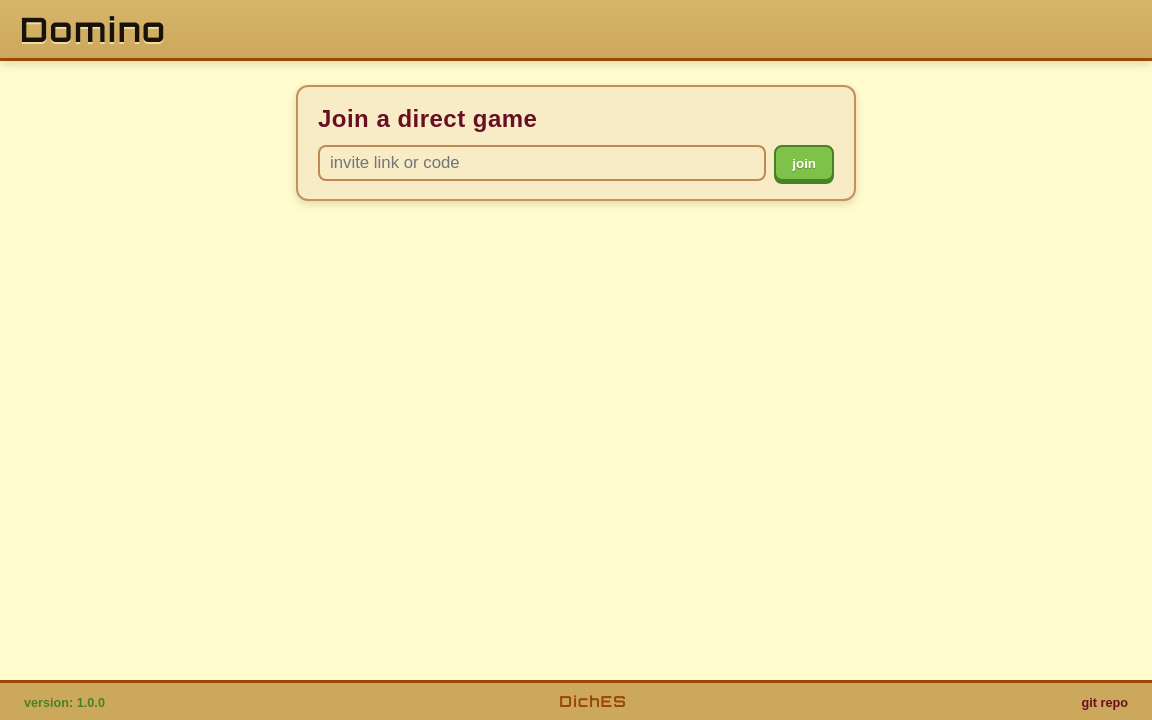
it: direct game join page › asks for an invite when the link has none and validates the input
In the field labelled "invite": (542, 163) [318,145,766,181], type "local-123"
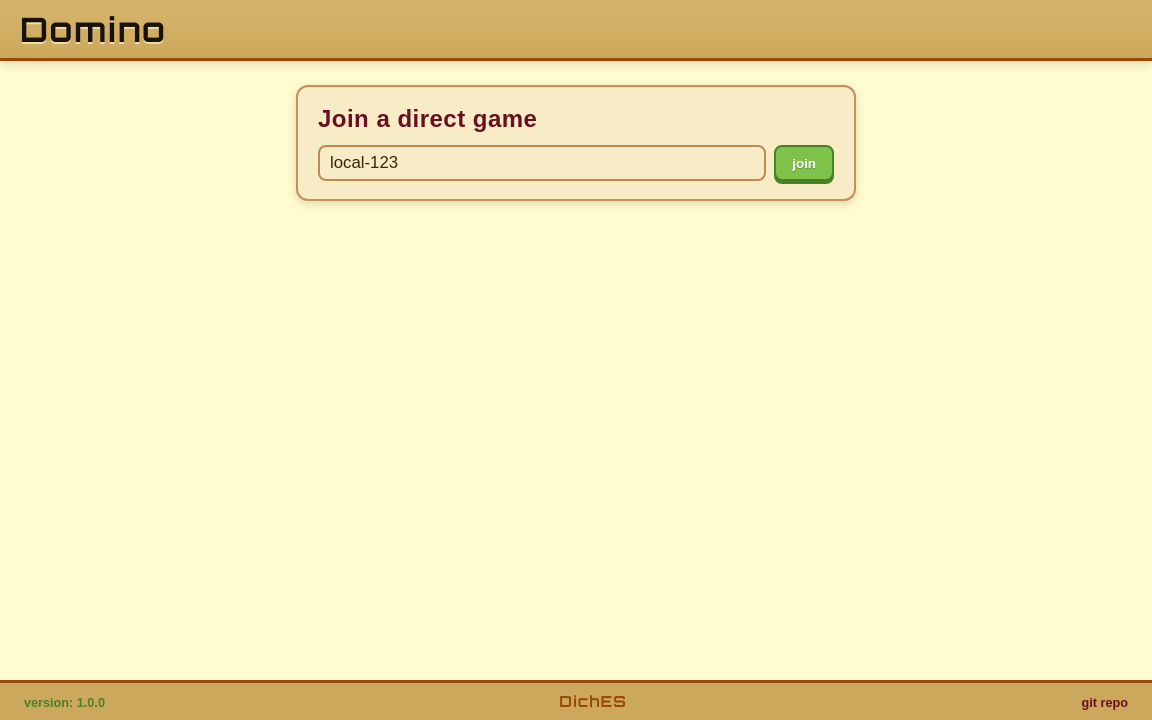
Click the button "join": (804, 163) [774,145,834,181]
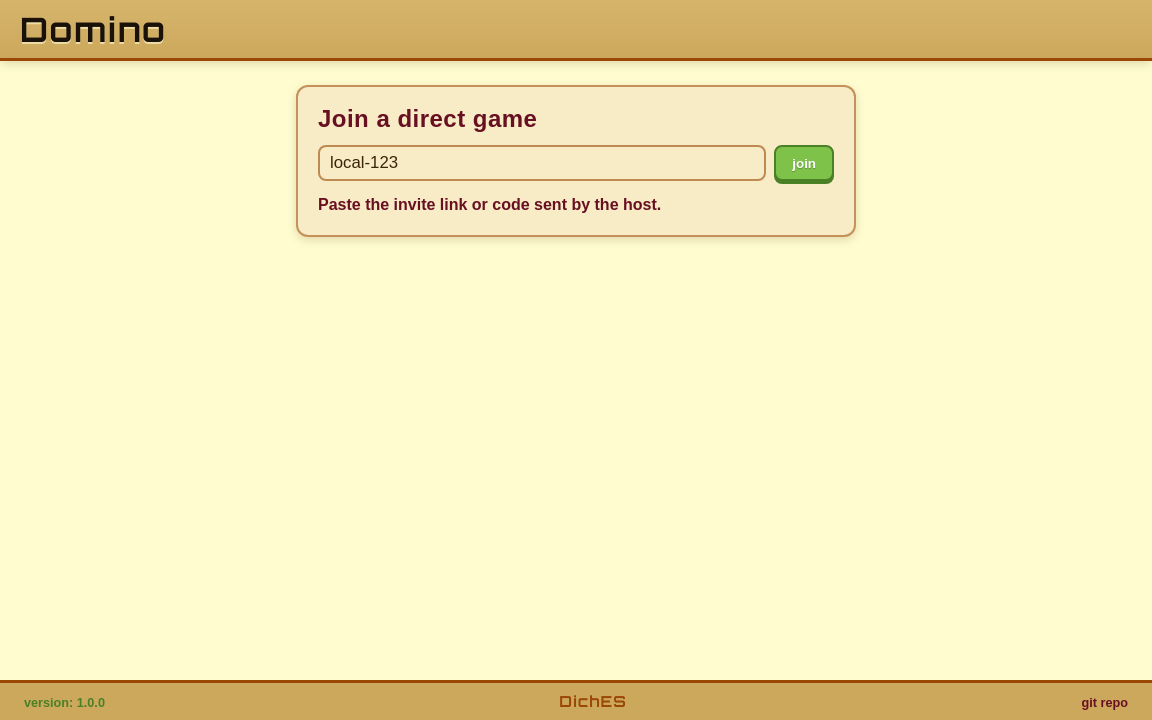
Check: the text "Paste the invite link or code sent by the host." is shown, box [318,196,661,213]
